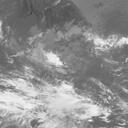cyclone: (32, 46, 87, 110)
